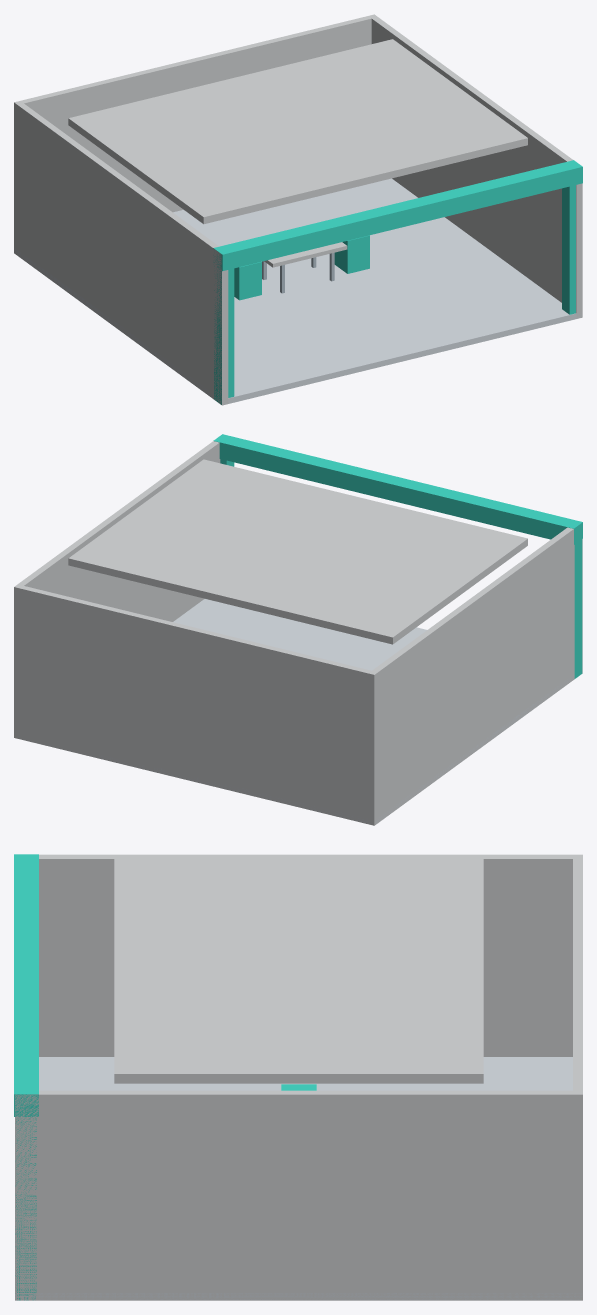
3 renders of one model, top to bottom at view 1: azimuth 30°, elevation 25°; view 2: azimuth 150°, elevation 25°; view 3: azimuth 270°, elevation 25°, orthographic. The views are drawn at different scales.
Parts seen in each view (by area): view 1: Exhibition Booth Concept; view 2: Exhibition Booth Concept; view 3: Exhibition Booth Concept.
Boxes of the visible parts, left/top/right/bottom form: Exhibition Booth Concept: left=14, top=14, right=582, bottom=405; Exhibition Booth Concept: left=14, top=434, right=582, bottom=825; Exhibition Booth Concept: left=14, top=854, right=582, bottom=1300.
Size of the model in its own units: 8 by 3.34 by 8.01.
